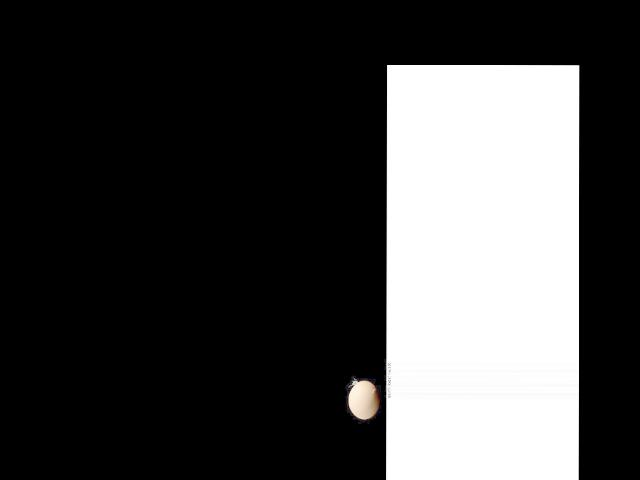egg: (349, 381, 379, 419)
